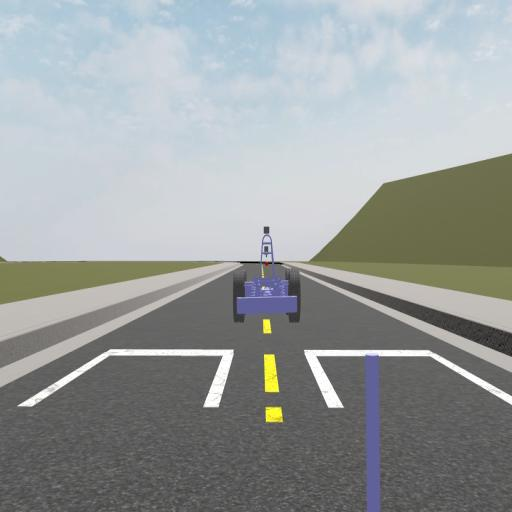ERP-42: (234, 226, 300, 320)
